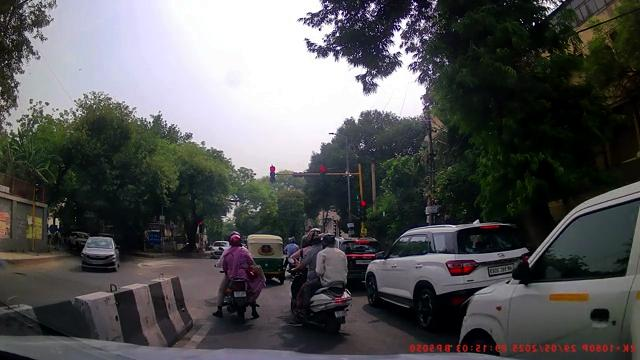motorcycle_with_helmet: (288, 229, 352, 334), (213, 231, 264, 324)
passenger_with_helmet: (288, 229, 352, 334)
